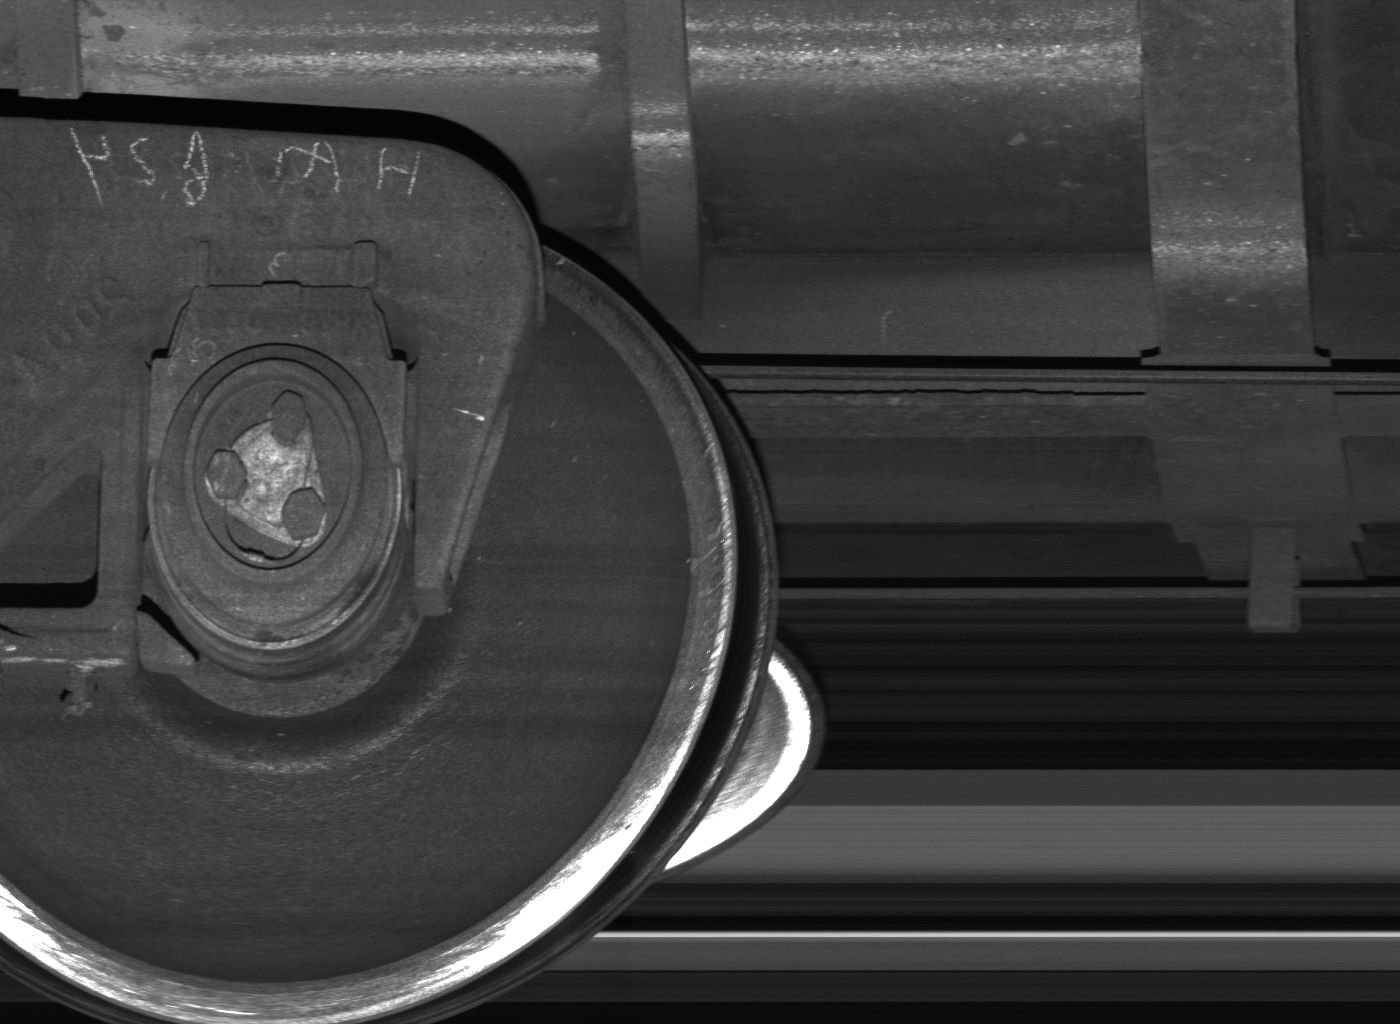normal: (1245, 524, 1300, 632)
